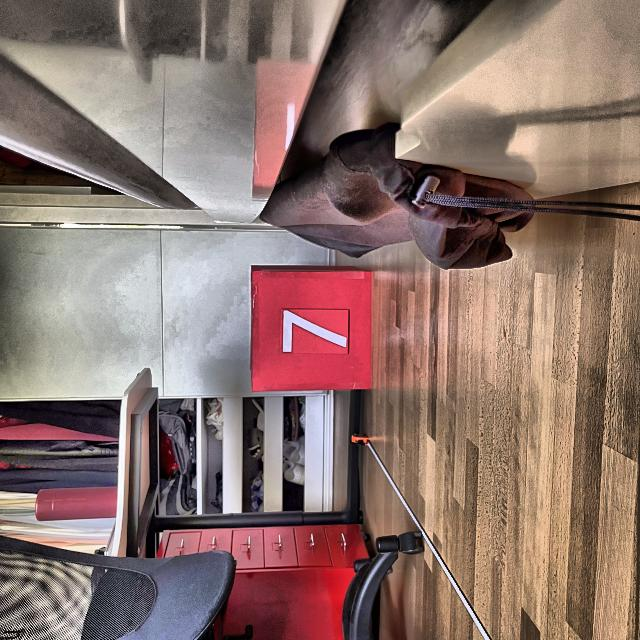red box: (251, 265, 372, 390)
seven: (283, 308, 348, 352)
